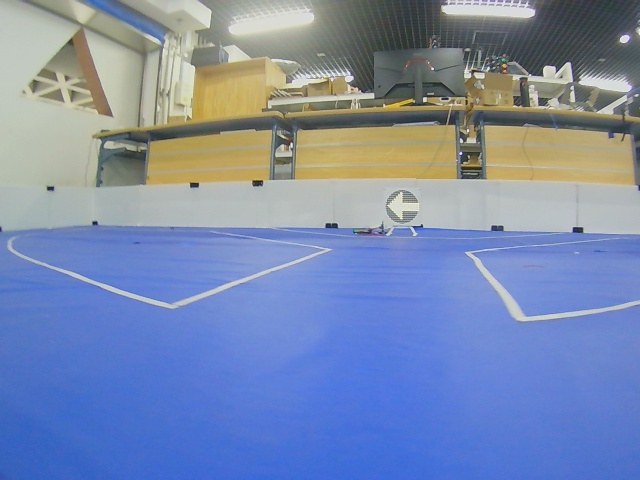left_yellow: (386, 190, 420, 224)
